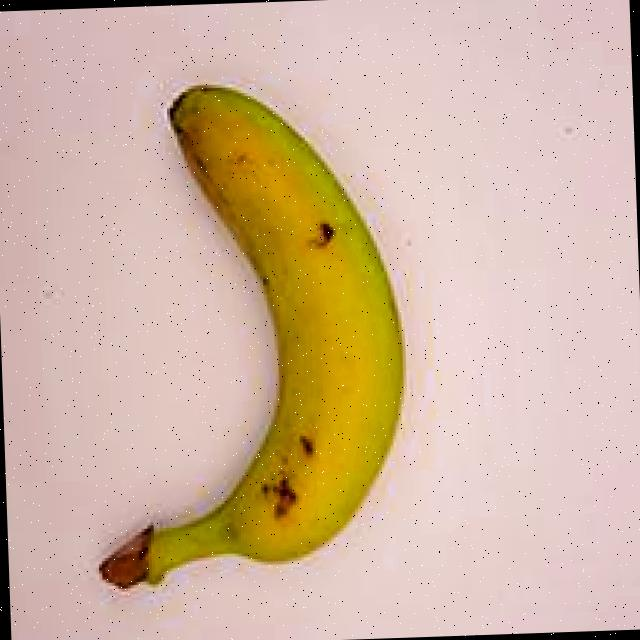Unripe: (61, 46, 462, 627)
